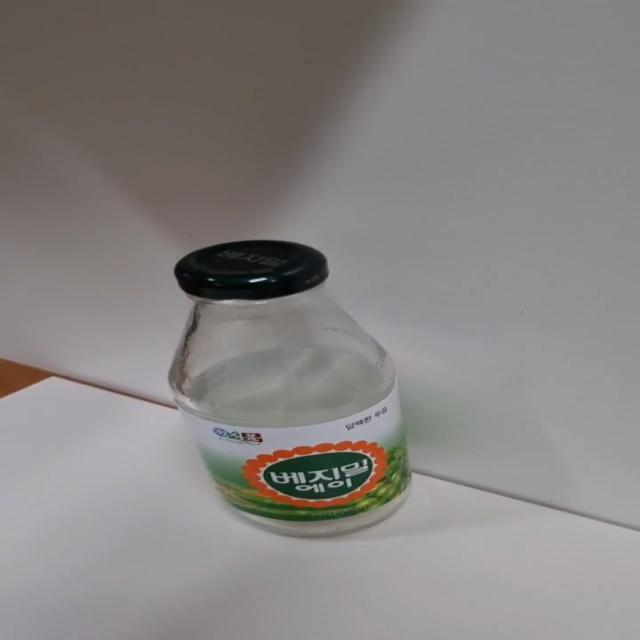Glass: (23, 240, 412, 542)
